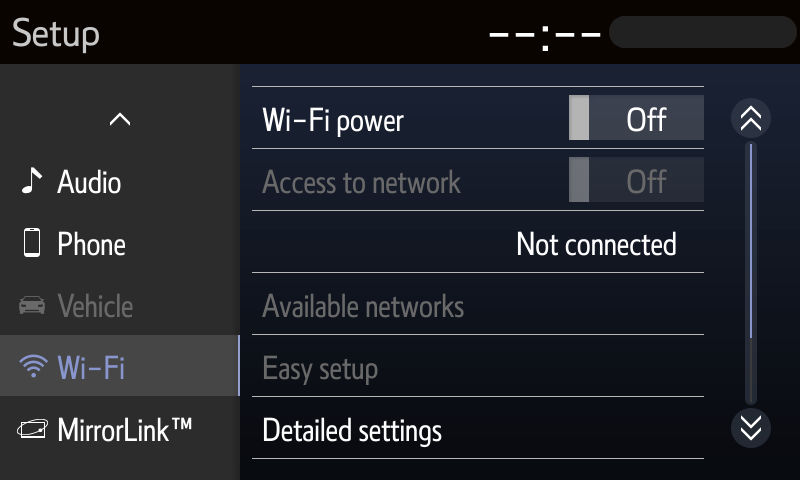touchPart: (248, 391, 710, 467), (252, 81, 706, 153), (13, 408, 205, 453), (18, 219, 132, 261), (18, 162, 128, 196), (728, 405, 783, 449), (729, 97, 777, 139), (106, 97, 137, 135)
untouchPart: (250, 142, 715, 214), (247, 271, 717, 342), (245, 330, 716, 400), (249, 207, 720, 275), (1, 329, 241, 401), (482, 10, 796, 53), (13, 281, 135, 321), (6, 15, 98, 58)
